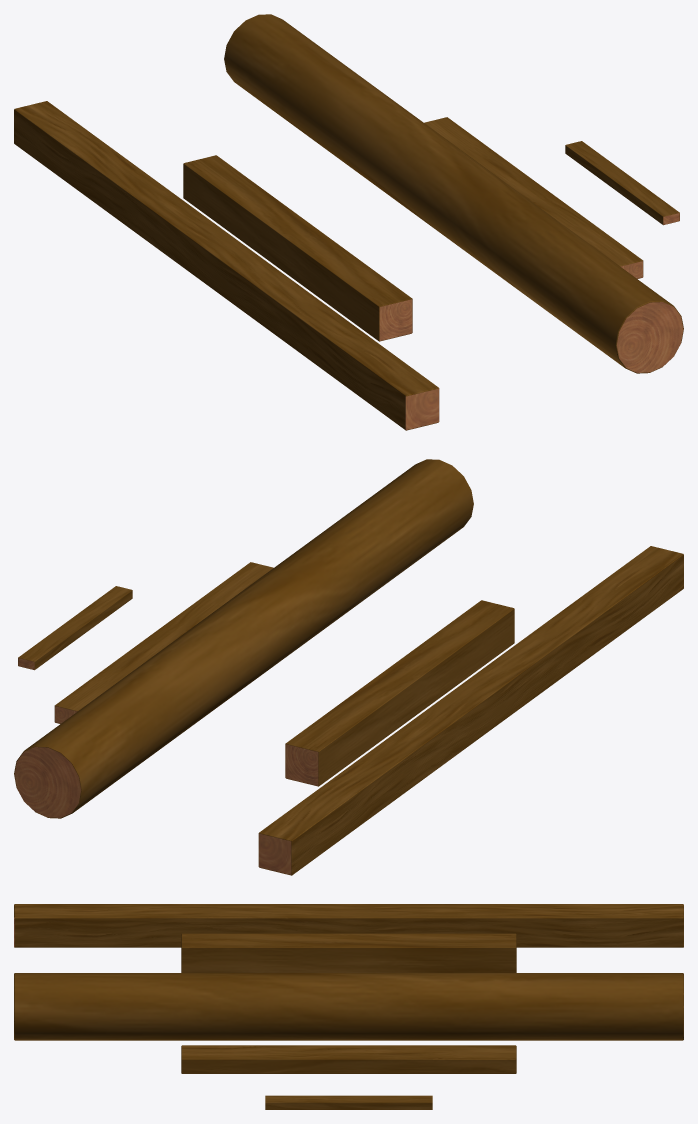
Rendered from WoodenStuff.fbx.
3 renders of one model, top to bottom at view 1: azimuth 30°, elevation 25°; view 2: azimuth 150°, elevation 25°; view 3: azimuth 270°, elevation 25°, orthographic. The views are drawn at different scales.
Parts seen in each view (by area): view 1: Wood_CircularLog, Wood_4m_Square, Wood_2m_Square, Wood_2m, Wood_1m; view 2: Wood_CircularLog, Wood_4m_Square, Wood_2m_Square, Wood_2m, Wood_1m; view 3: Wood_CircularLog, Wood_4m_Square, Wood_2m_Square, Wood_2m, Wood_1m.
Boxes of the visible parts, left/top/right/bottom form: Wood_CircularLog: left=224, top=14, right=683, bottom=373; Wood_4m_Square: left=14, top=101, right=439, bottom=430; Wood_2m_Square: left=183, top=155, right=412, bottom=341; Wood_2m: left=424, top=117, right=643, bottom=278; Wood_1m: left=565, top=141, right=679, bottom=225; Wood_CircularLog: left=14, top=459, right=473, bottom=818; Wood_4m_Square: left=258, top=546, right=683, bottom=875; Wood_2m_Square: left=285, top=600, right=514, bottom=786; Wood_2m: left=54, top=562, right=273, bottom=723; Wood_1m: left=18, top=586, right=132, bottom=670; Wood_CircularLog: left=14, top=973, right=683, bottom=1040; Wood_4m_Square: left=14, top=904, right=683, bottom=947; Wood_2m_Square: left=181, top=933, right=516, bottom=972; Wood_2m: left=181, top=1045, right=516, bottom=1073; Wood_1m: left=265, top=1095, right=432, bottom=1109.
Size of the model in its own units: 2.48 by 0.4043 by 4.
